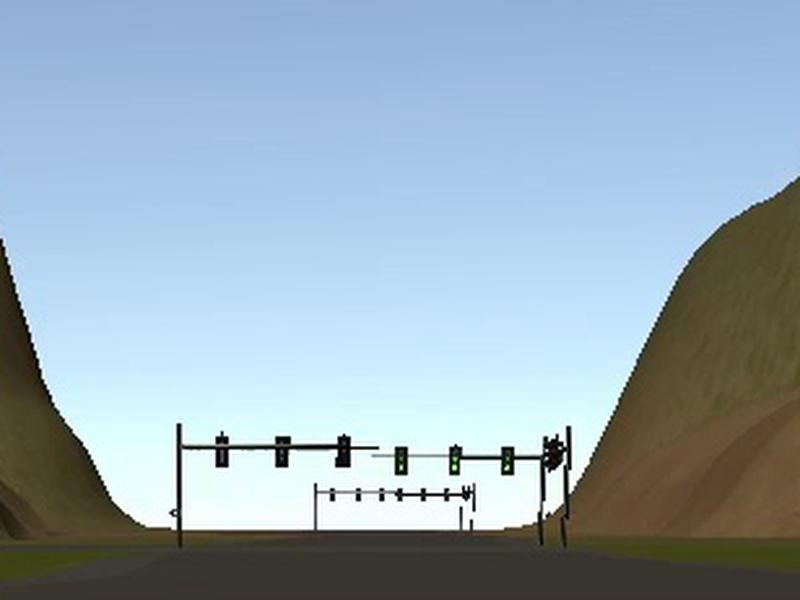Green: (501, 447, 515, 476), (395, 447, 409, 475), (450, 447, 462, 475)
